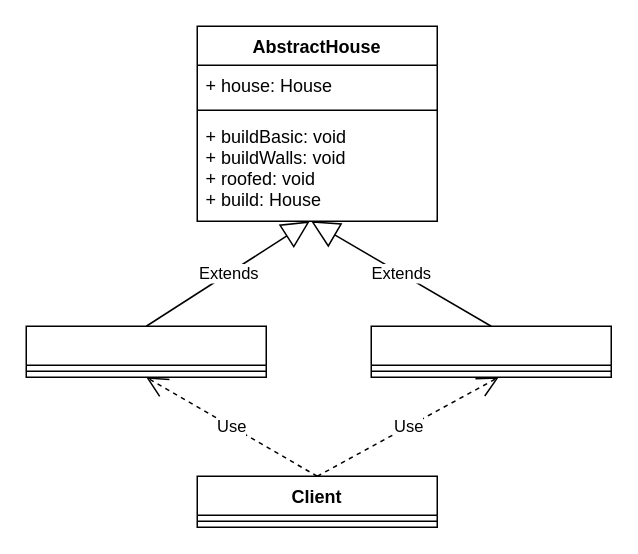
The diagram is 638 pixels wide and 554 high, and some of its shapes have lost their labels. Here are the shapes that lost their labels. From the top down, the centre of each, then its label:
(x=145, y=351): CommonHouse
(x=490, y=351): HighBuilding
